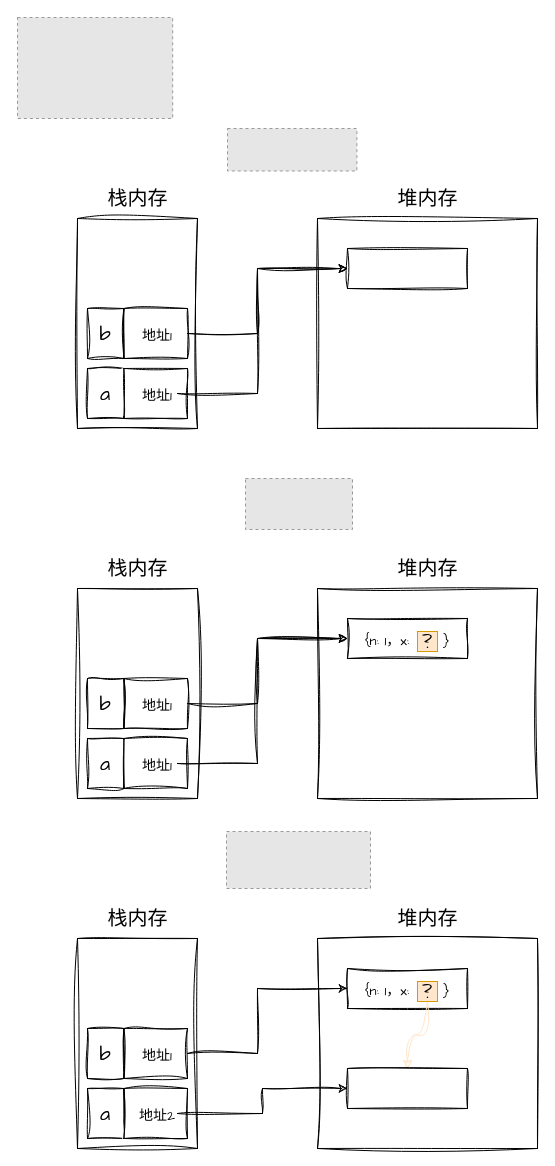
Image size: 555x1166. Some labels were removed from this diagram. Grey dashed boxes stand in for pictures. The centre of each missing label's shape, as x and y in pixels:
{n: 1}: point (407, 268)
{n: 2}: point (407, 1088)
